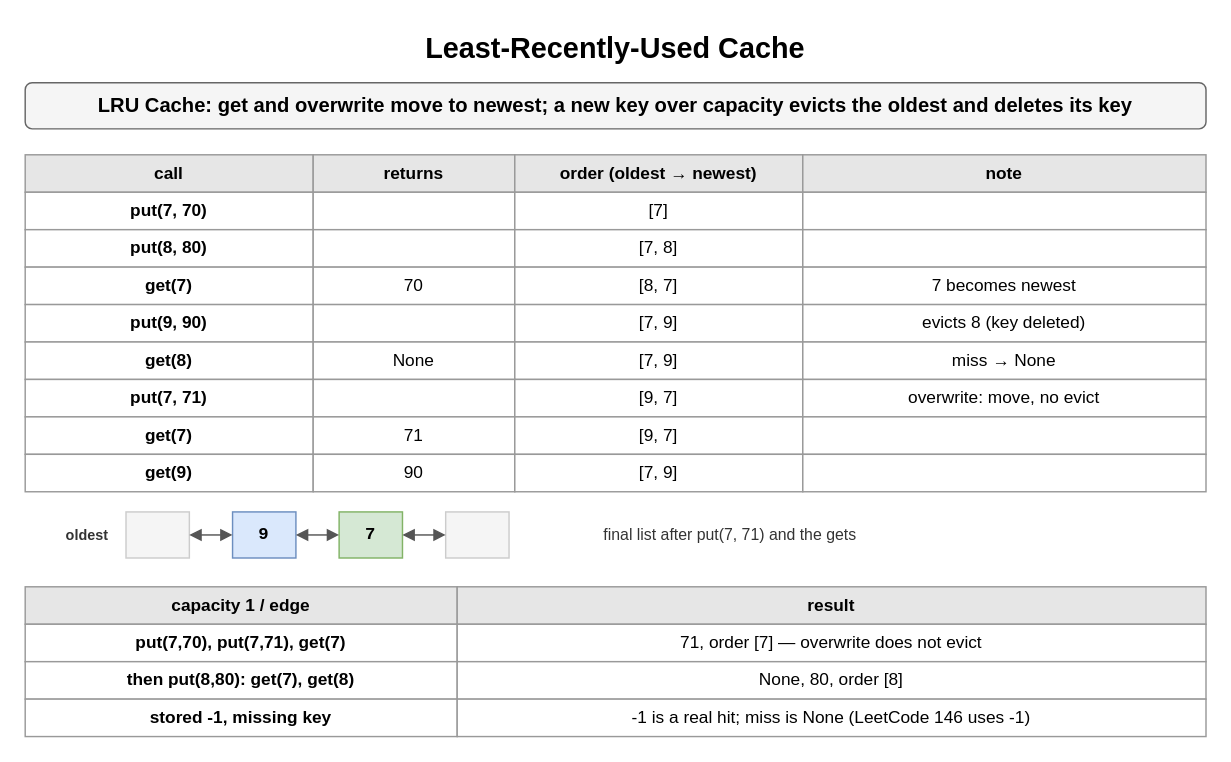
Some shapes in this 1231 by 762 pixel diagram are drawn without their labels. The box of each missing label's shape, as (x1, y1, x2, y2) in pixels:
new: (444, 510, 509, 558)
old: (125, 510, 189, 558)
